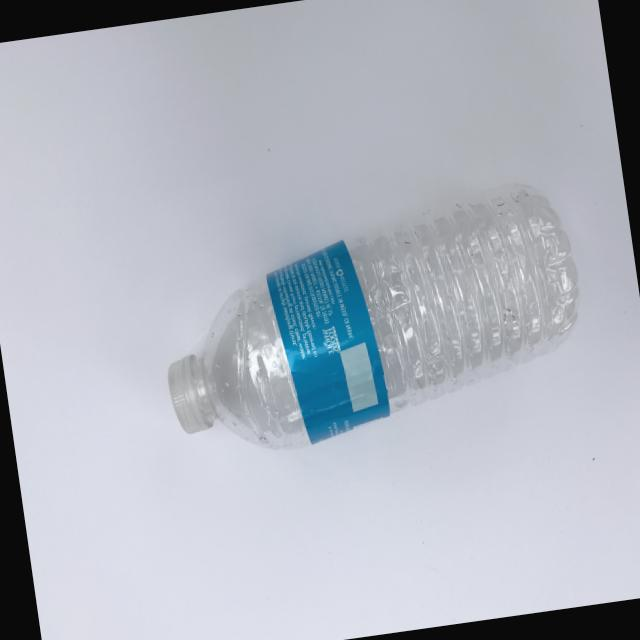Plastic: (132, 151, 610, 487)
